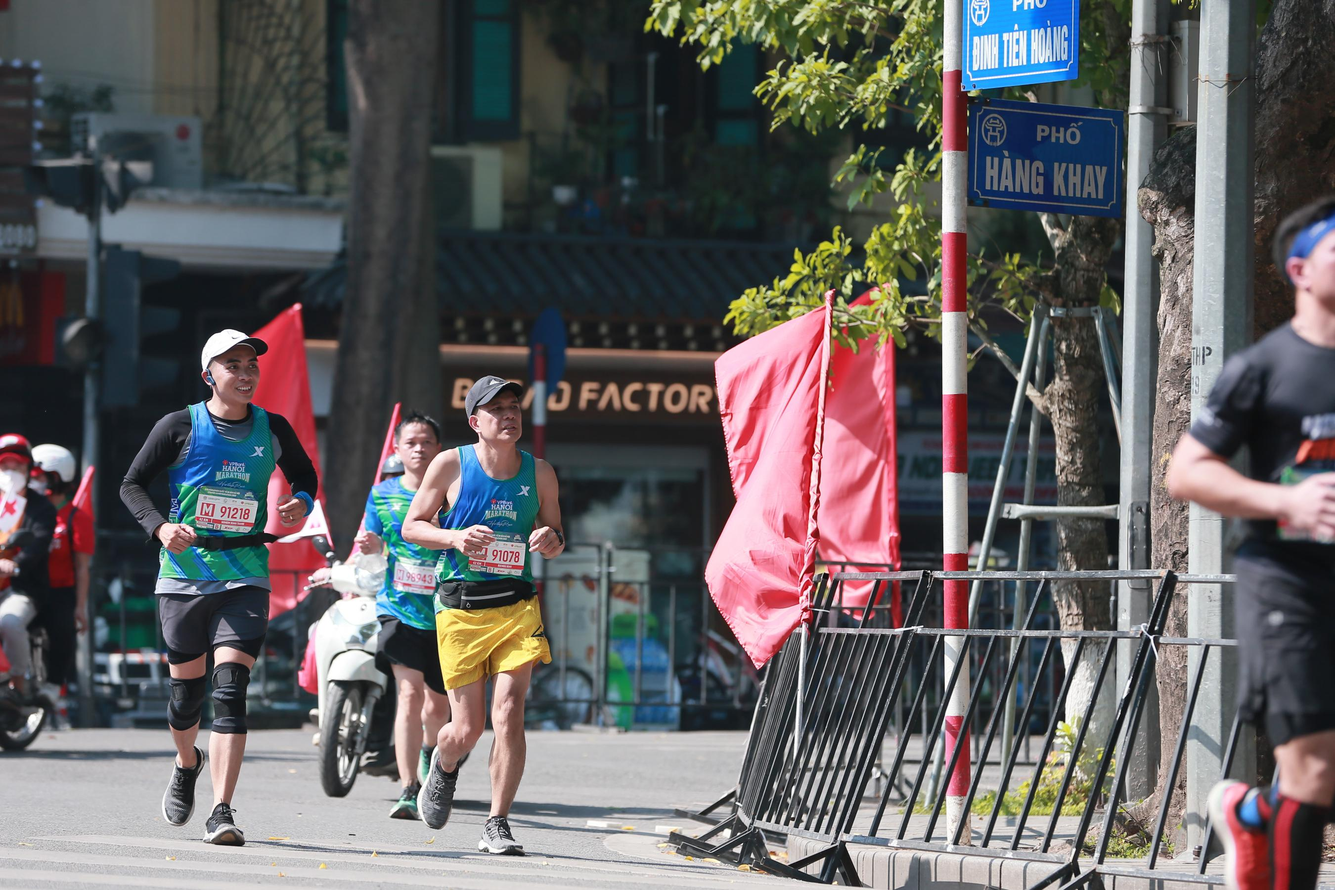bib: (196, 487, 257, 533), (470, 532, 526, 577), (394, 559, 435, 595)
